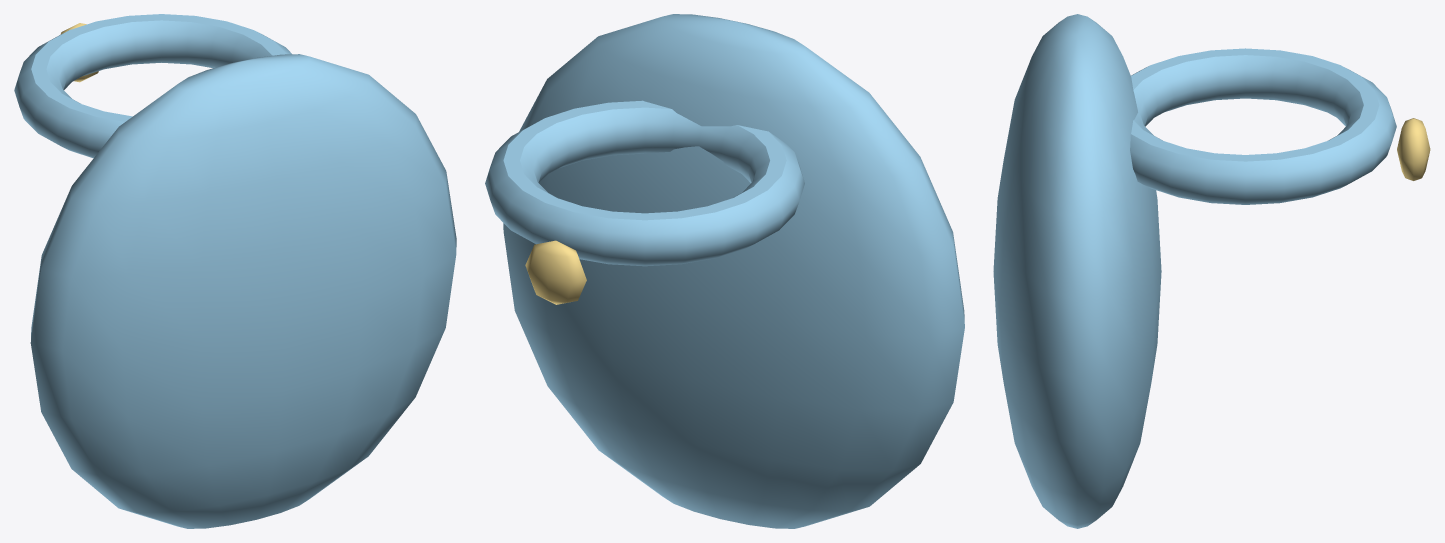
Rendered from Top_Cape.fbx.
3 renders of one model, left to right at view 1: azimuth 30°, elevation 25°; view 2: azimuth 150°, elevation 25°; view 3: azimuth 270°, elevation 25°, orthographic. The views are drawn at different scales.
Visible parts, largest first — view 1: Cape, Collar; view 2: Cape, Collar, Cape_Clasp; view 3: Cape, Collar, Cape_Clasp.
Part boxes in pixels (x1,y1,x2,y2): Cape: [30, 54, 456, 528]; Collar: [14, 14, 291, 158]; Cape: [503, 14, 964, 528]; Collar: [485, 100, 804, 266]; Cape_Clasp: [525, 240, 586, 304]; Cape: [993, 14, 1161, 528]; Collar: [1130, 48, 1396, 204]; Cape_Clasp: [1397, 118, 1430, 180].
Size of the model in its own units: 60 by 62 by 52.
